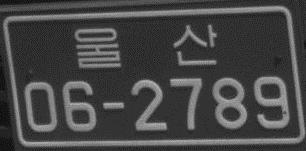-: (100, 97, 126, 113)
0: (21, 79, 59, 133)
2: (129, 77, 169, 131)
6: (61, 78, 98, 134)
7: (167, 76, 204, 133)
8: (210, 76, 247, 131)
9: (252, 74, 291, 130)
울산_D: (73, 20, 219, 72)
